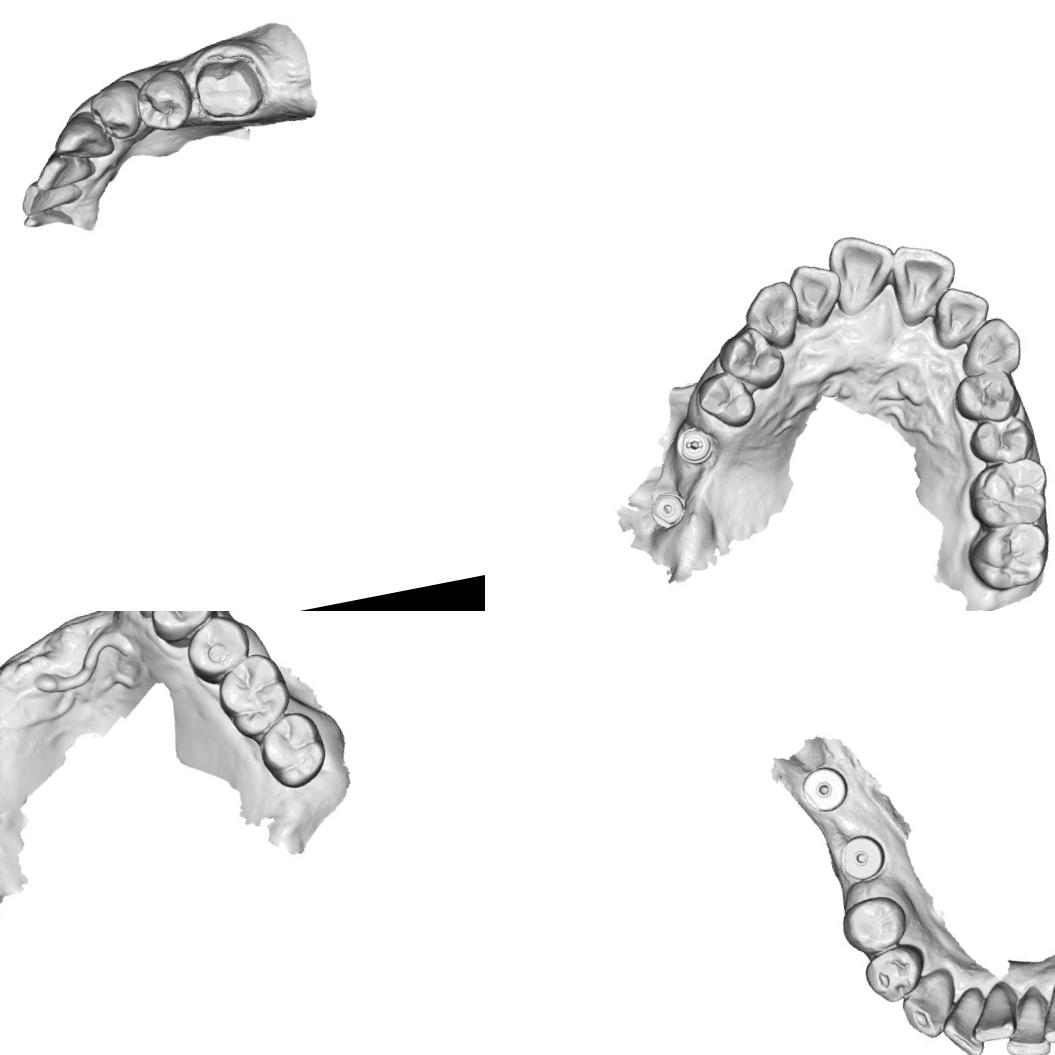canine: (738, 275, 806, 355), (952, 312, 1028, 382), (897, 965, 962, 1044), (48, 109, 117, 168)
crown: (186, 44, 272, 126)
implant: (798, 762, 858, 820), (833, 827, 887, 884), (644, 485, 688, 532)
implant_minus: (667, 416, 720, 470)
incisor: (882, 233, 966, 329), (822, 226, 905, 318), (928, 279, 996, 352), (784, 256, 848, 330), (960, 977, 1022, 1048), (14, 168, 88, 222), (995, 990, 1054, 1055), (934, 988, 990, 1055), (31, 146, 98, 192), (1031, 975, 1055, 1046)
molar: (209, 646, 299, 745), (959, 452, 1055, 535), (961, 513, 1055, 595), (252, 705, 332, 794)
premolar: (179, 611, 257, 689), (713, 320, 791, 397), (128, 63, 200, 139), (947, 360, 1023, 431), (857, 938, 932, 1006), (961, 407, 1038, 470), (836, 890, 910, 955), (84, 74, 150, 145), (692, 367, 760, 435), (144, 611, 223, 649)
